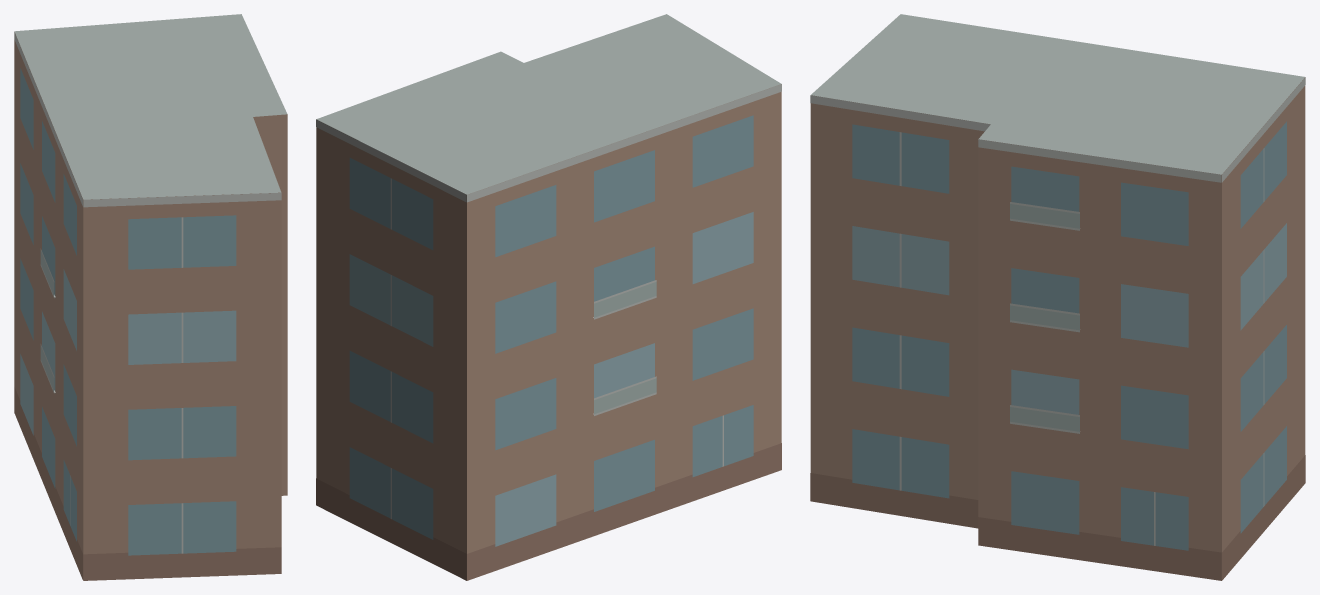
File: survey-upis-33020790.glb
3 views of the same model, side by side, from view 1: azimuth 30°, elevation 25°; view 2: azimuth 150°, elevation 25°; view 3: azimuth 270°, elevation 25° (orthographic). The views are drawn at different scales.
Parts seen in each view (by area): view 1: survey-upis-33020790.tmp; view 2: survey-upis-33020790.tmp; view 3: survey-upis-33020790.tmp.
Boxes of the visible parts, <box> form: survey-upis-33020790.tmp: <box>14,14,287,580</box>; survey-upis-33020790.tmp: <box>316,14,781,580</box>; survey-upis-33020790.tmp: <box>810,14,1305,580</box>.
Bounding box in the file's own units: 10.36 × 12.2 × 13.48.
